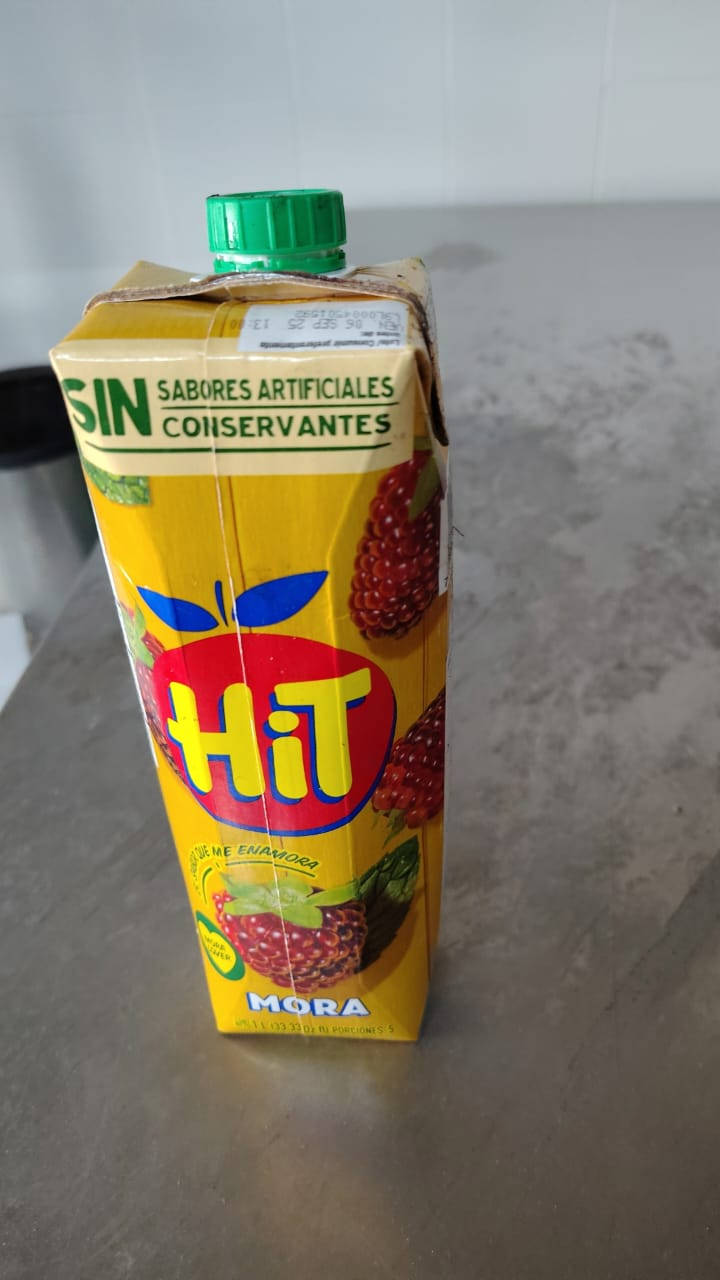Carton: (52, 261, 445, 1037)
